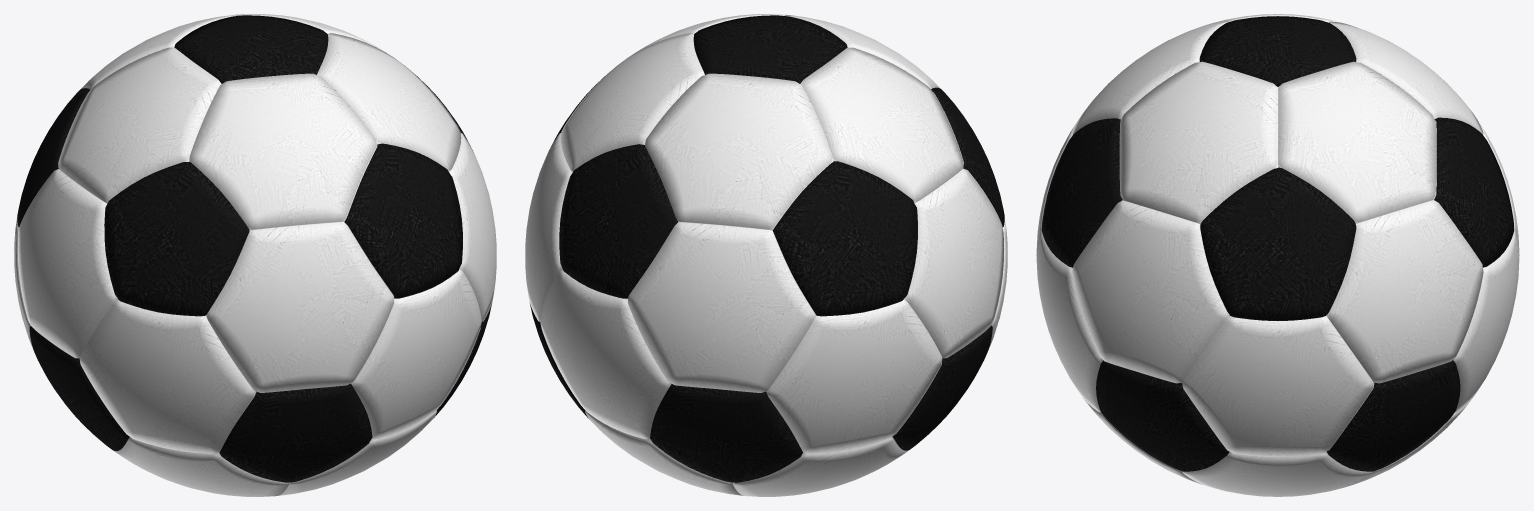
File: ball.dae
The picture shows the model from 3 angles, left to right: view 1: azimuth 30°, elevation 25°; view 2: azimuth 150°, elevation 25°; view 3: azimuth 270°, elevation 25°; orthographic projection.
Parts seen in each view (by area): view 1: Icosphere_Icosphere_006; view 2: Icosphere_Icosphere_006; view 3: Icosphere_Icosphere_006.
Boxes of the visible parts, x1=… form: Icosphere_Icosphere_006: x1=14, y1=14, x2=496, y2=496; Icosphere_Icosphere_006: x1=525, y1=14, x2=1007, y2=496; Icosphere_Icosphere_006: x1=1036, y1=14, x2=1519, y2=496.
Size of the model in its own units: 1.47 by 1.47 by 1.47.
2 materials, 2 textured.
